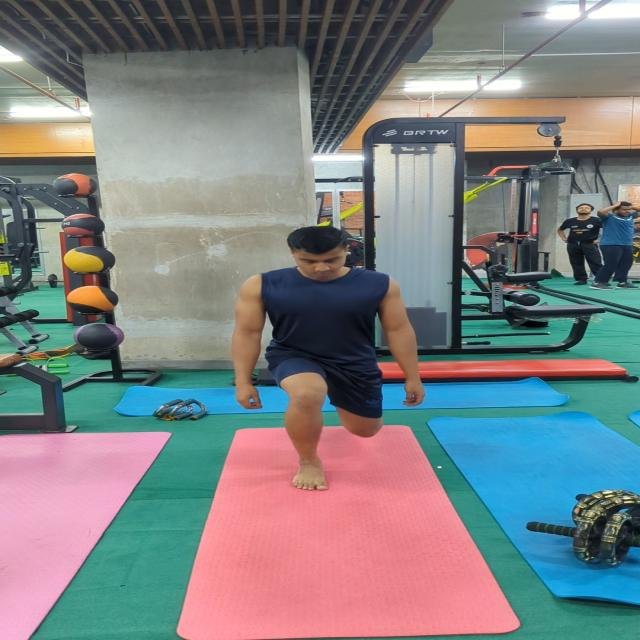Normal_Lunges: (221, 217, 440, 495)
